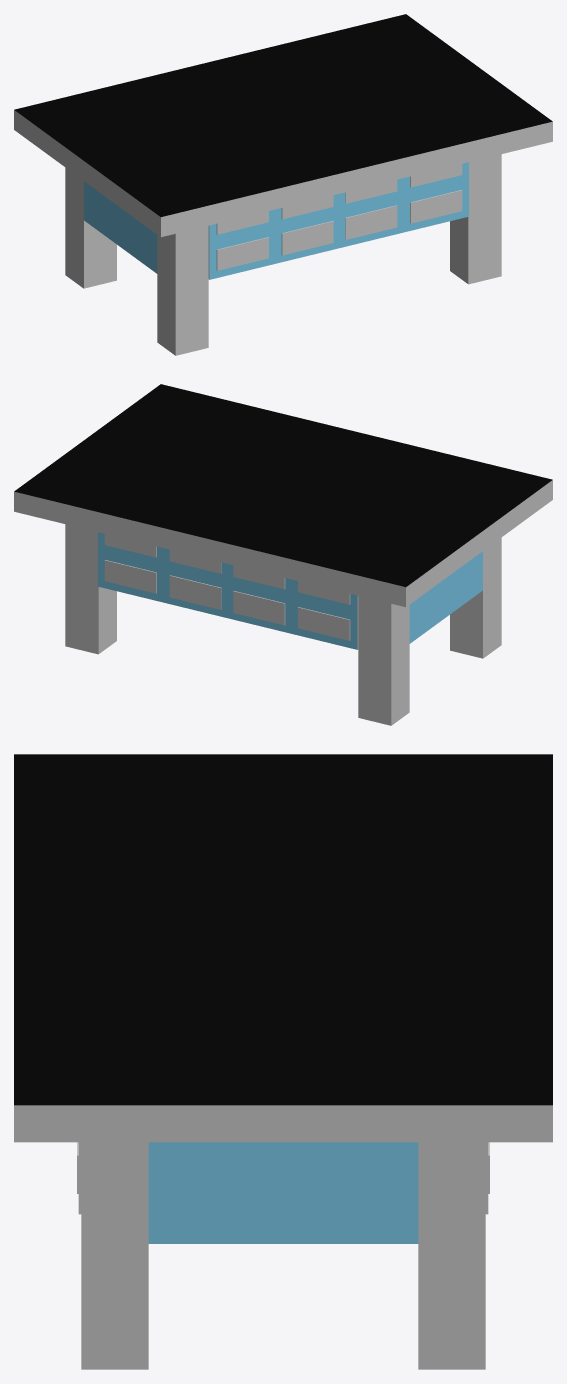
The model's file is LabTable.fbx.
3 views of the same model, one above another, from view 1: azimuth 30°, elevation 25°; view 2: azimuth 150°, elevation 25°; view 3: azimuth 270°, elevation 25° (orthographic). The views are drawn at different scales.
Parts seen in each view (by area): view 1: 立方体.001, 立方体, 立方体.003, 立方体.004; view 2: 立方体.001, 立方体, 立方体.003, 立方体.004; view 3: 立方体.001, 立方体, 立方体.004.
Boxes of the visible parts, <box> form: 立方体.001: <box>14,14,552,216</box>; 立方体: <box>14,110,552,355</box>; 立方体.003: <box>209,162,468,279</box>; 立方体.004: <box>84,181,157,273</box>; 立方体.001: <box>14,384,552,586</box>; 立方体: <box>14,480,552,725</box>; 立方体.003: <box>98,532,357,649</box>; 立方体.004: <box>409,551,482,643</box>; 立方体.001: <box>14,754,552,1105</box>; 立方体: <box>14,1105,552,1369</box>; 立方体.004: <box>148,1142,418,1243</box>.
Bounding box in the file's own units: 308 × 120 × 200.
